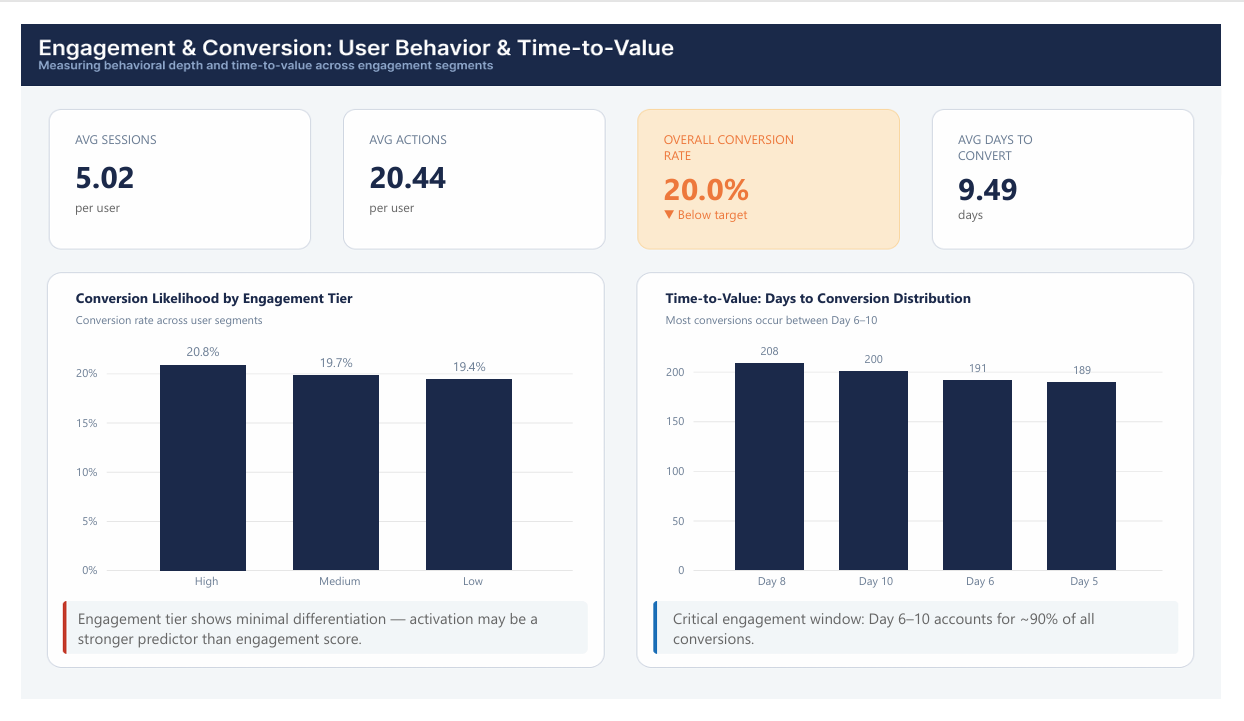

This screenshot's page, from the dashboard's own definition file:
{"tool":"powerbi","page":{"name":"Engagement & Conversion","canvas":[1280,720],"ordinal":2},"visuals":[{"type":"cardVisual","title":"AVG ACTIONS","fields":{"Data":["saas_funnel_cleaned.Avg Actions"]},"box":[366,114,150,120],"z":0},{"type":"cardVisual","title":"OVERALL CONVERSION RATE","fields":{"Data":["saas_funnel_cleaned.Conversion Rate (All)"]},"box":[680,114,150,120],"z":1000},{"type":"cardVisual","title":"AVG SESSIONS","fields":{"Data":["saas_funnel_cleaned.Avg Sessions"]},"box":[51.9,114,150,120],"z":2000},{"type":"clusteredColumnChart","title":"Conversion Likelihood by Engagement Tier","fields":{"Category":["saas_funnel_cleaned.engagement_segment"],"Y":["saas_funnel_cleaned.Conversion Rate by Segment"]},"box":[53.4,281.3,539.6,330.4],"z":3000},{"type":"columnChart","title":"Time-to-Value: Days to Conversion Distribution","fields":{"Y":["saas_funnel_cleaned.Total Users"],"Category":["saas_funnel_cleaned.Days to Convert 2"]},"box":[682.4,281.3,539.6,330.4],"z":4000},{"type":"cardVisual","title":"AVG DAYS TO CONVERT","fields":{"Data":["saas_funnel_cleaned.Avg Days to Convert"]},"box":[994.1,114,150,120],"z":5000},{"type":"textbox","box":[55,618,539.6,62],"z":6000},{"type":"textbox","box":[690,618,539.6,62],"z":7000}]}

Visuals, with their boxes in screenshot pixels (x1, y1, x2, y2), scaled from the page's 1280x720 canvas onto the 1244x721 screenshot:
"AVG ACTIONS" cardVisual: <region>356, 114, 501, 234</region>
"OVERALL CONVERSION RATE" cardVisual: <region>661, 114, 807, 234</region>
"AVG SESSIONS" cardVisual: <region>50, 114, 196, 234</region>
"Conversion Likelihood by Engagement Tier" clusteredColumnChart: <region>52, 282, 576, 613</region>
"Time-to-Value: Days to Conversion Distribution" columnChart: <region>663, 282, 1188, 613</region>
"AVG DAYS TO CONVERT" cardVisual: <region>966, 114, 1112, 234</region>
textbox: <region>53, 619, 578, 681</region>
textbox: <region>671, 619, 1195, 681</region>
